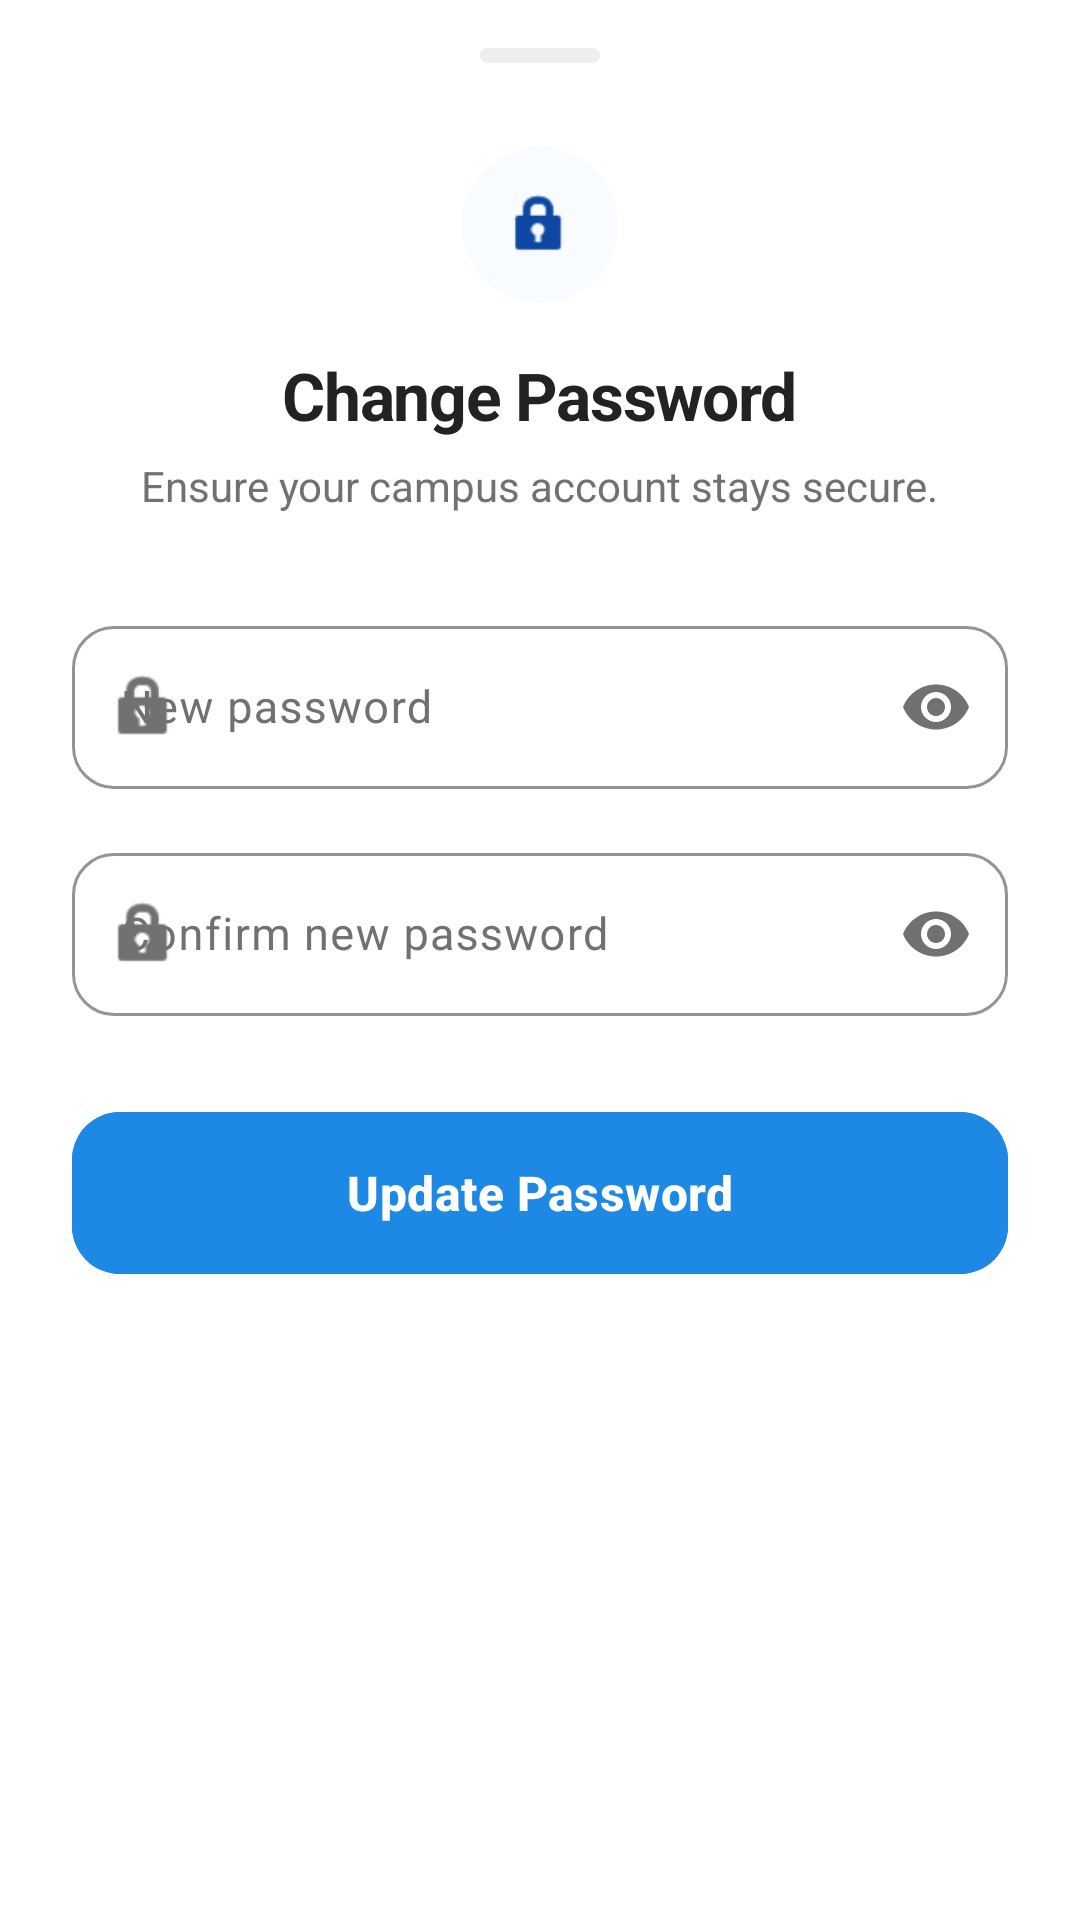

Icons on this 1080×1920 Android screen, each with the point to tap as [x,y]:
Security: [538,222]
